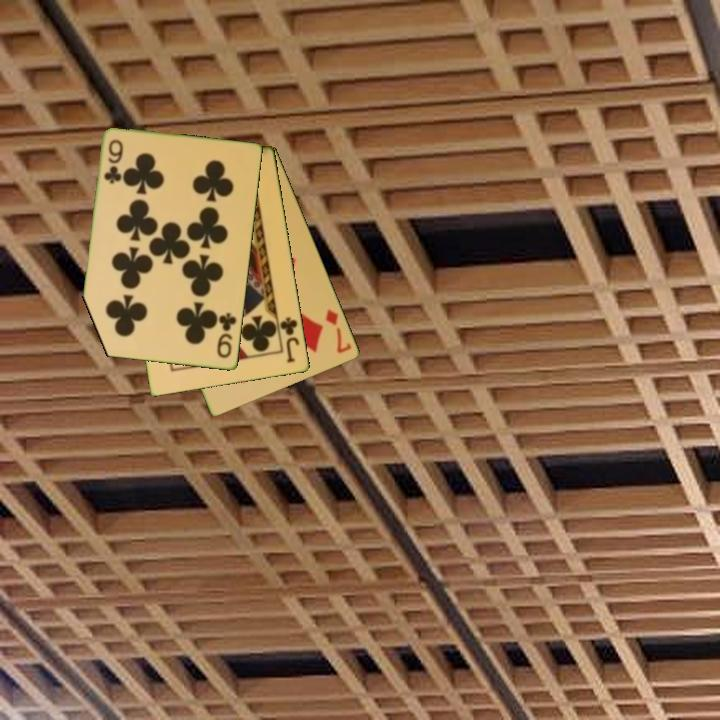7d: (322, 305, 355, 356)
9c: (214, 309, 239, 361), (101, 136, 126, 187)
Jc: (277, 314, 302, 366)
